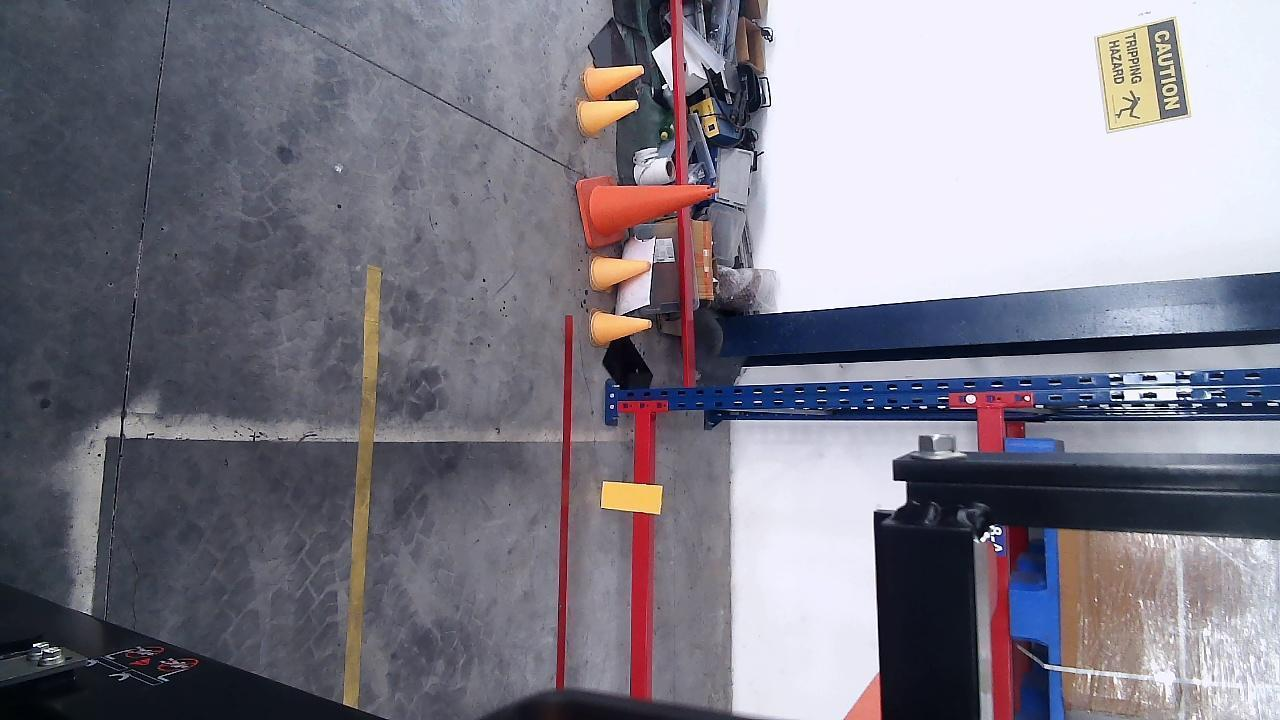red_line: (554, 316, 575, 688)
yellow_line: (345, 266, 382, 706)
